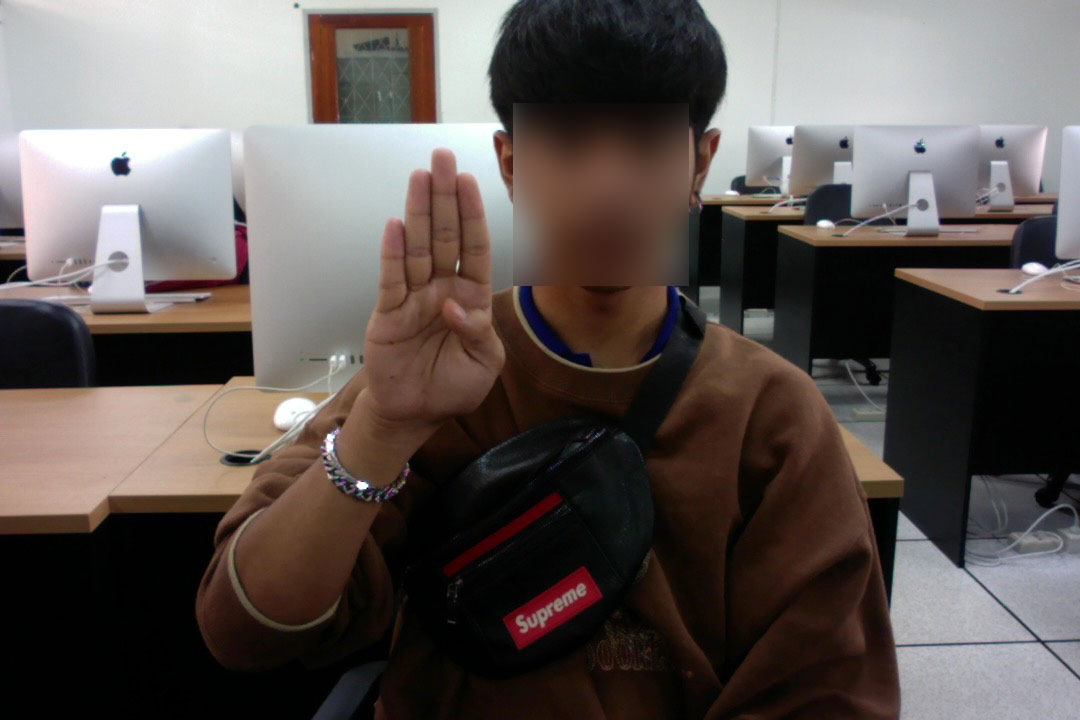bor: (355, 138, 514, 432)
